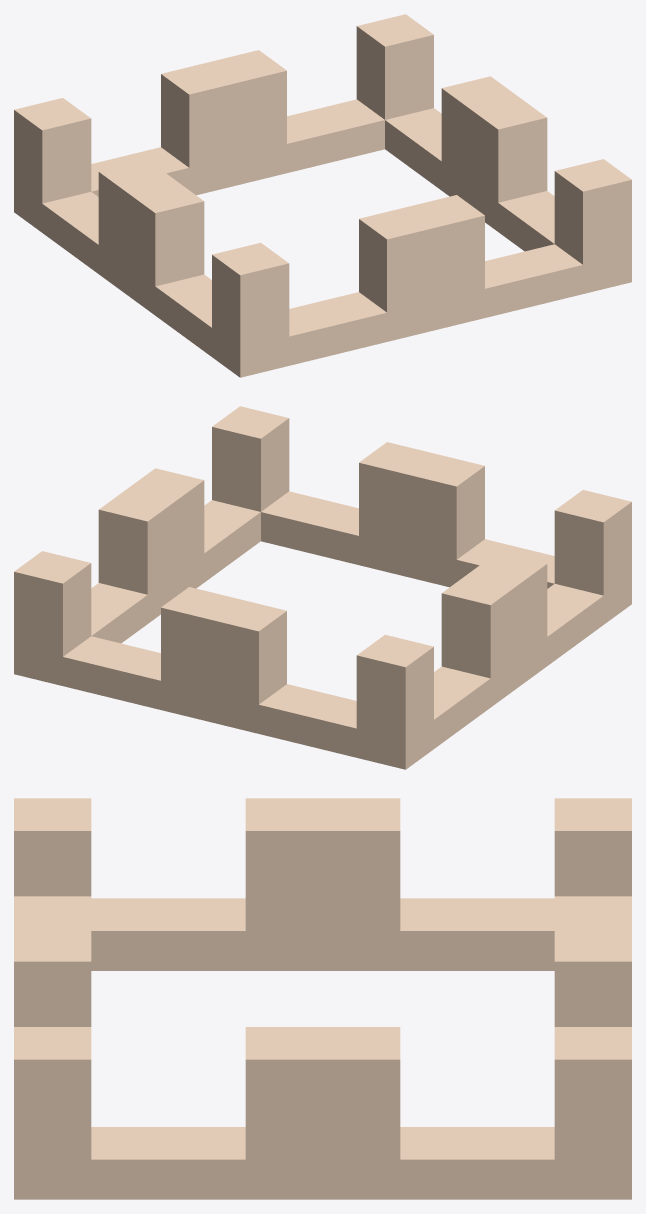
The model's file is Abstract_Modular_Battlements_1.0_Beige_01.fbx.
3 views of the same model, one above another, from view 1: azimuth 30°, elevation 25°; view 2: azimuth 150°, elevation 25°; view 3: azimuth 270°, elevation 25° (orthographic). The views are drawn at different scales.
Parts seen in each view (by area): view 1: Abstract_Modular_Battlements_1.0_Beige_01; view 2: Abstract_Modular_Battlements_1.0_Beige_01; view 3: Abstract_Modular_Battlements_1.0_Beige_01.
Boxes of the visible parts, x1=… form: Abstract_Modular_Battlements_1.0_Beige_01: x1=14, y1=14, x2=631, y2=377; Abstract_Modular_Battlements_1.0_Beige_01: x1=14, y1=406, x2=631, y2=769; Abstract_Modular_Battlements_1.0_Beige_01: x1=14, y1=798, x2=631, y2=1199.
Size of the model in its own units: 118 by 29.53 by 118.
